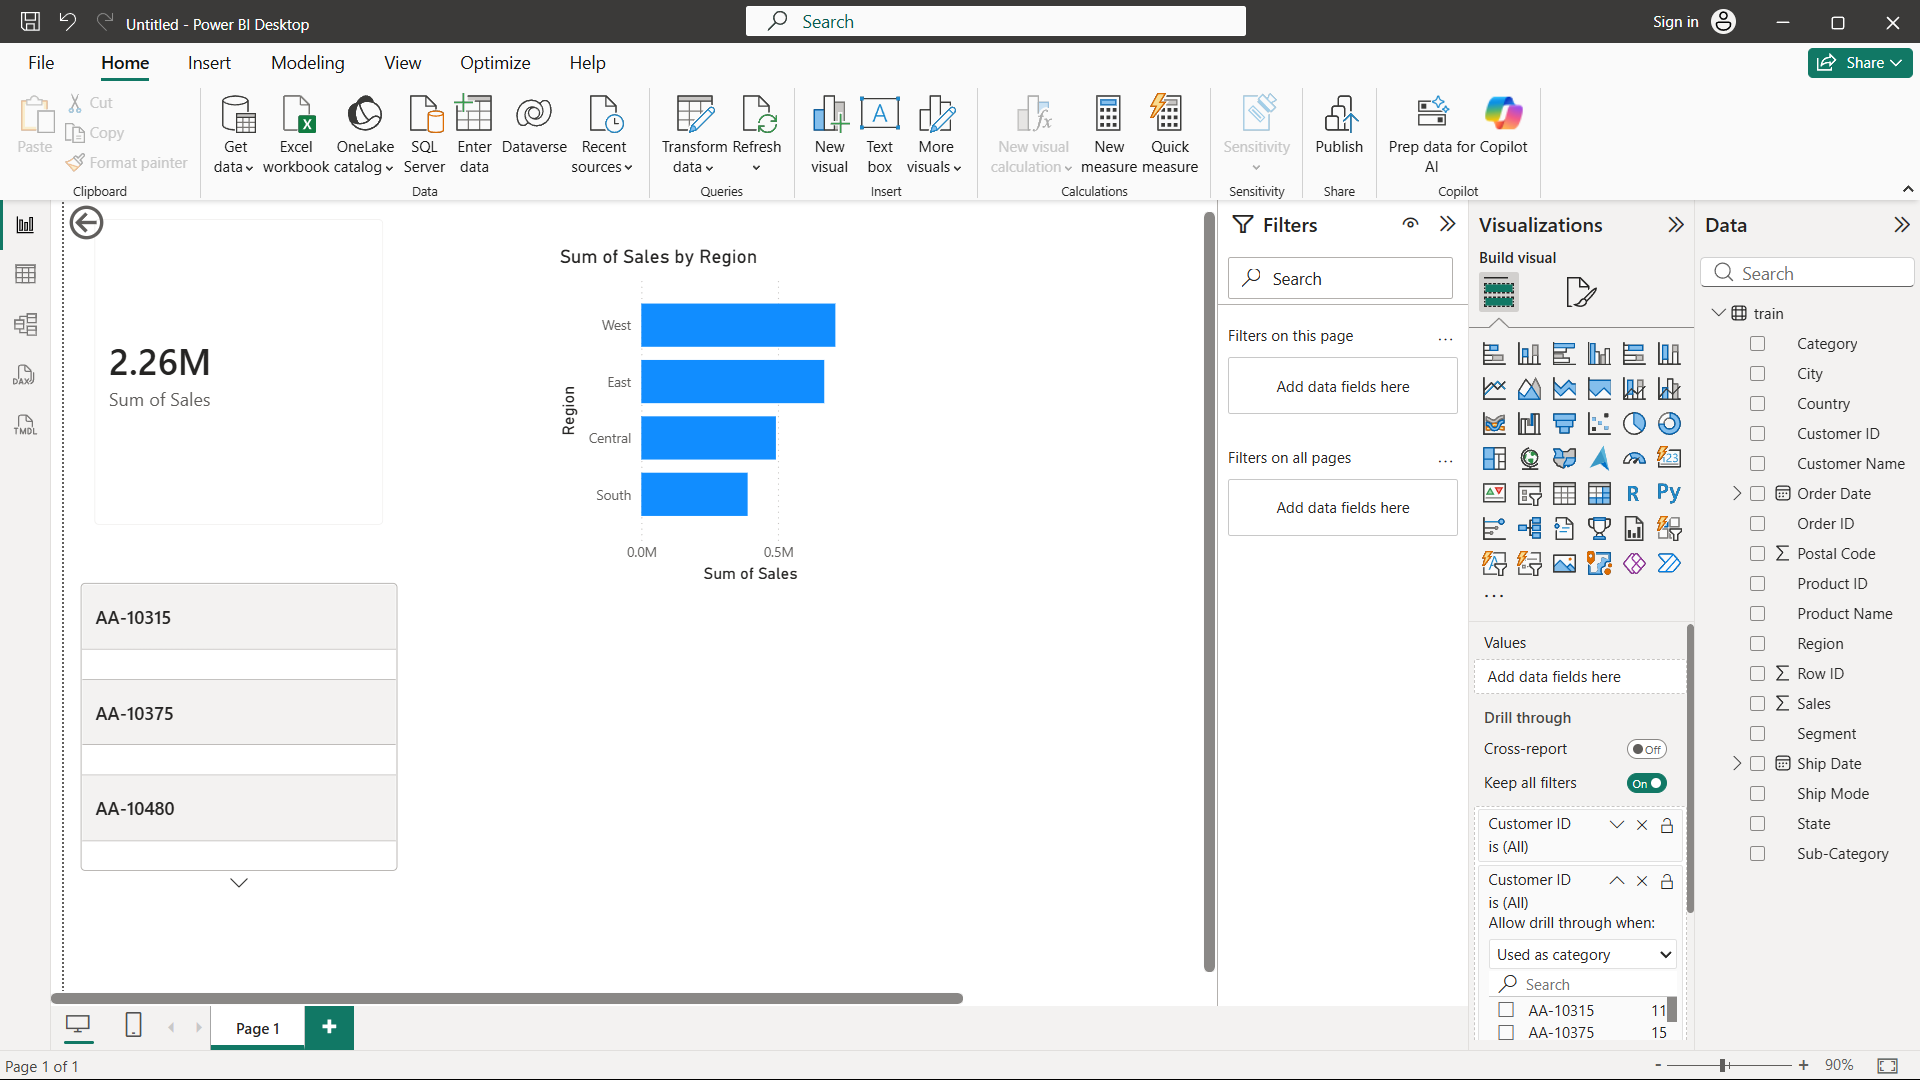

The dashboard page shown, as its layout file describes it:
{"tool":"powerbi","page":{"name":"Page 1","canvas":[1280,720],"ordinal":0},"visuals":[{"type":"cardVisual","fields":{"Data":["Sum(train.Sales)"]},"box":[10,0,291,306],"z":0},{"type":"actionButton","box":[0,0,100,40],"z":2},{"type":"barChart","fields":{"Category":["train.Region"],"Y":["Sum(train.Sales)"]},"box":[435.6,40,291.1,305.6],"z":3}]}

Visuals, with their boxes on the page's 1280x720 design canvas (x1, y1, x2, y2). These are canvas units, not pixel positions in the 1920x1080 screenshot, which may show the page scaled, cropped or inside an application window:
cardVisual - Sum(train.Sales): box=[10, 0, 301, 306]
actionButton: box=[0, 0, 100, 40]
barChart - train.Region x Sum(train.Sales): box=[436, 40, 727, 346]
